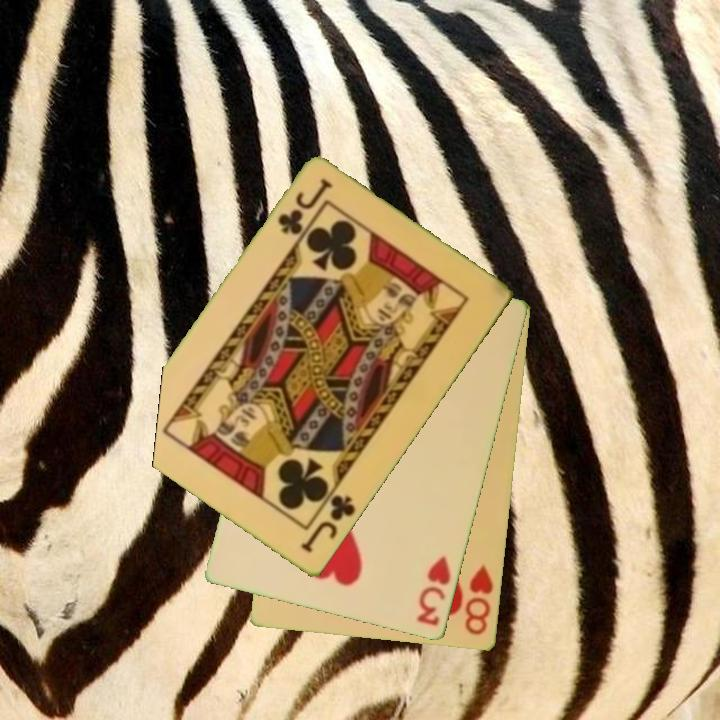3h: (413, 552, 454, 629)
8h: (461, 562, 497, 638)
Jc: (297, 491, 359, 557), (274, 175, 335, 239)
